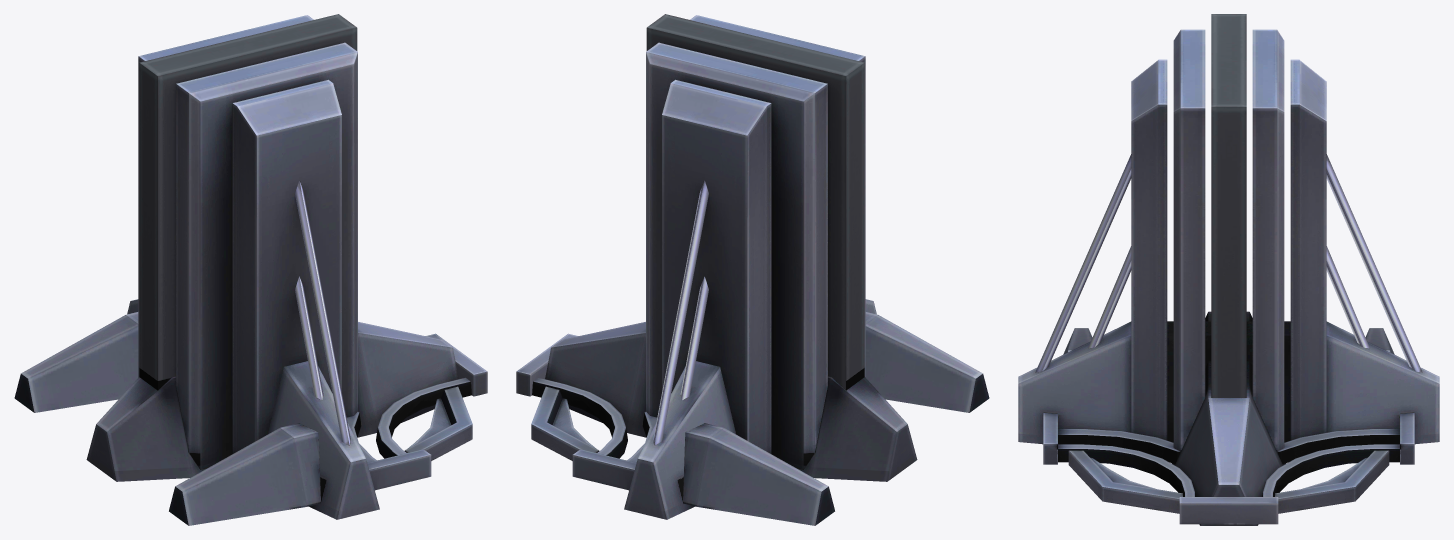
Rendered from S_Music_begin.fbx.
The picture shows the model from 3 angles, left to right: view 1: azimuth 30°, elevation 25°; view 2: azimuth 150°, elevation 25°; view 3: azimuth 270°, elevation 25°; orthographic projection. The views are drawn at different scales.
Visible parts, largest first — view 1: S_Music_begin; view 2: S_Music_begin; view 3: S_Music_begin.
Boxes of the visible parts, box(x1,y1,x2,y2) form: S_Music_begin: box(14, 14, 487, 525); S_Music_begin: box(516, 14, 989, 525); S_Music_begin: box(1018, 14, 1439, 525).
Bounding box in the file's own units: 0.8089 × 0.8373 × 0.8579.
1 material, 1 textured.
